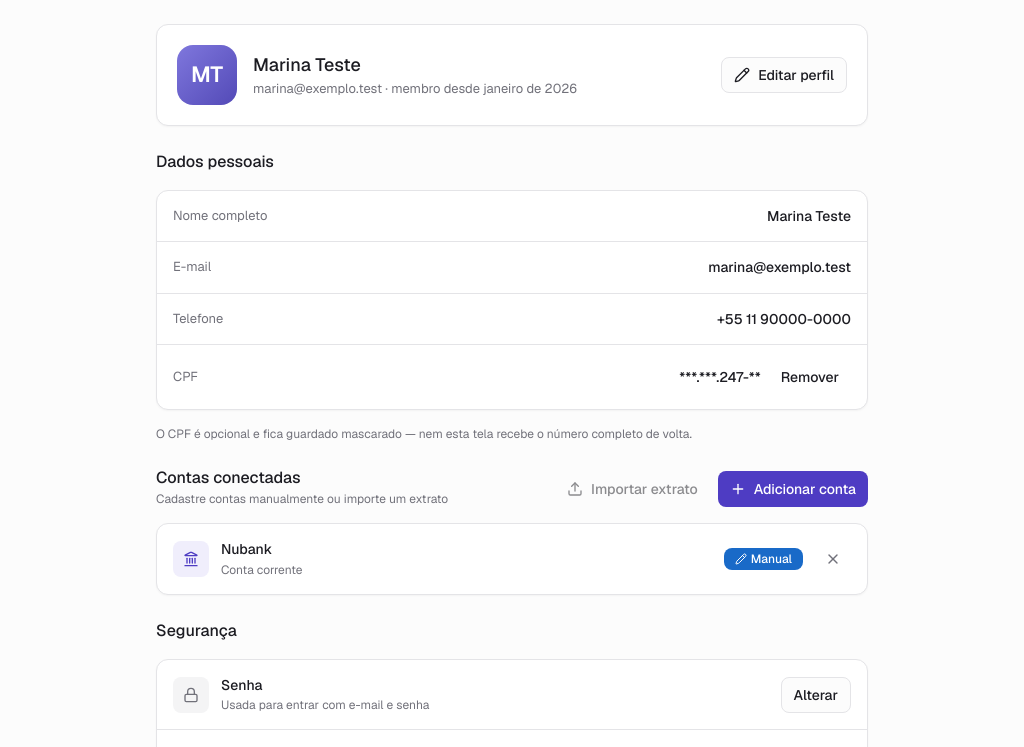
AccountScreen › opens the profile dialog with the CPF field empty
Click the button "Editar perfil": (784, 75) [721,57,847,93]
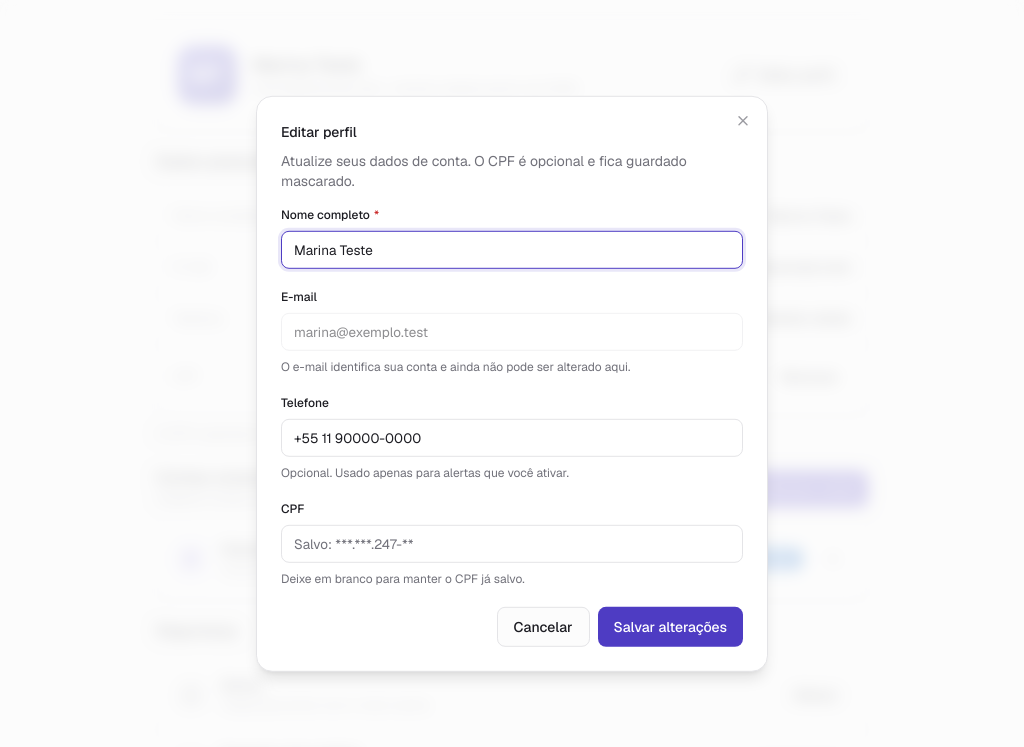
Now the field labelled "CPF" is empty, box [281,525,743,563]
Now the field labelled "E-mail" is disabled, box [281,313,743,351]
